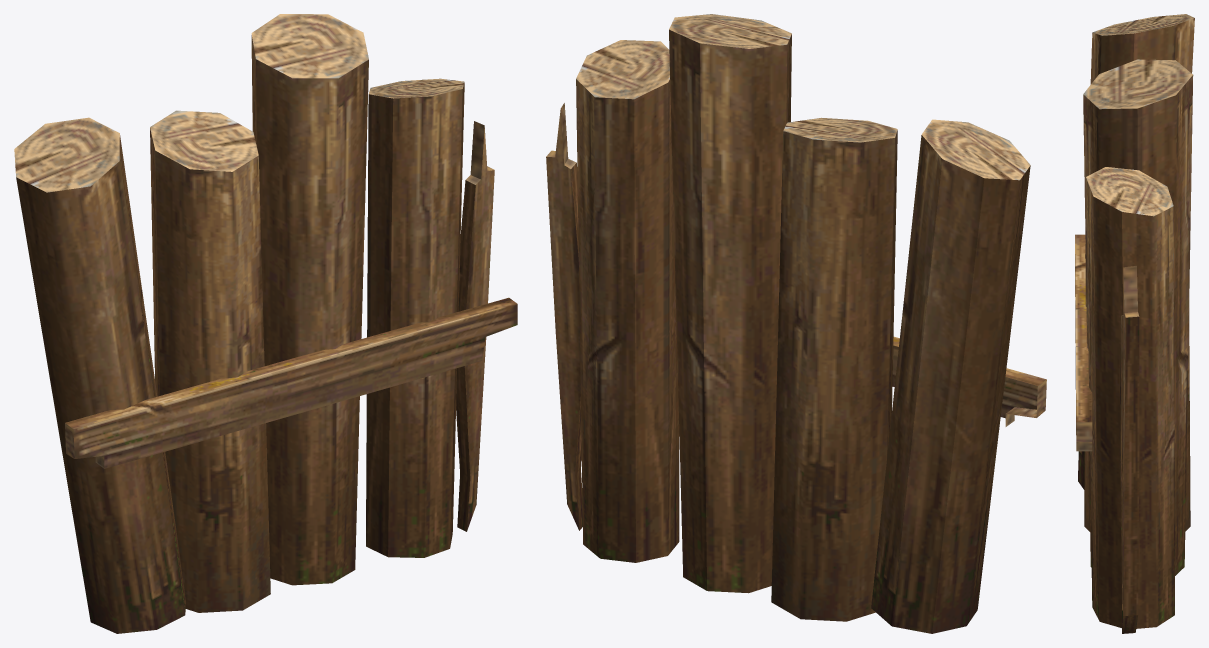
The model's file is jd_zhalan_3.FBX.
3 renders of one model, left to right at view 1: azimuth 30°, elevation 25°; view 2: azimuth 150°, elevation 25°; view 3: azimuth 270°, elevation 25°, orthographic. The views are drawn at different scales.
Parts seen in each view (by area): view 1: jd_zhalan_3; view 2: jd_zhalan_3; view 3: jd_zhalan_3.
Part boxes in pixels (x1,y1,x2,y2): jd_zhalan_3: (14,14,517,633); jd_zhalan_3: (546,14,1046,633); jd_zhalan_3: (1075,14,1194,633).
Size of the model in its own units: 101 by 111 by 24.32.
